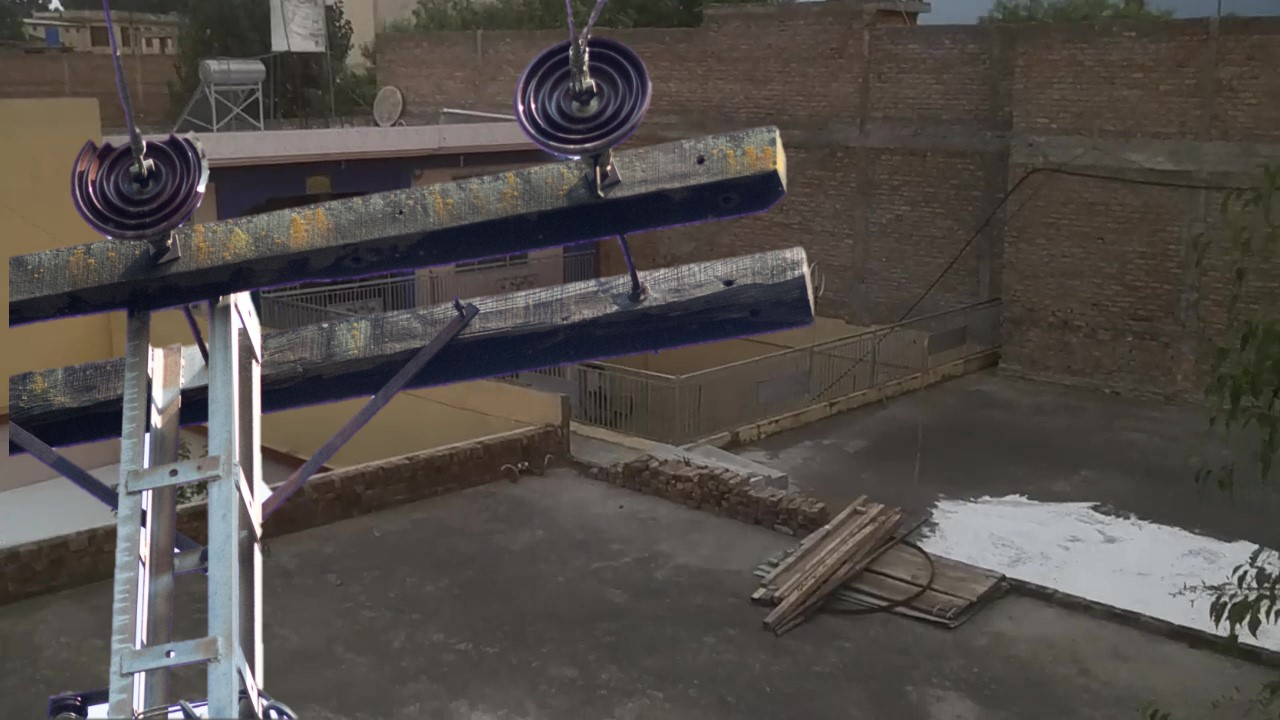defect_disc: (68, 128, 218, 245)
insulator_disc: (511, 32, 658, 161)
